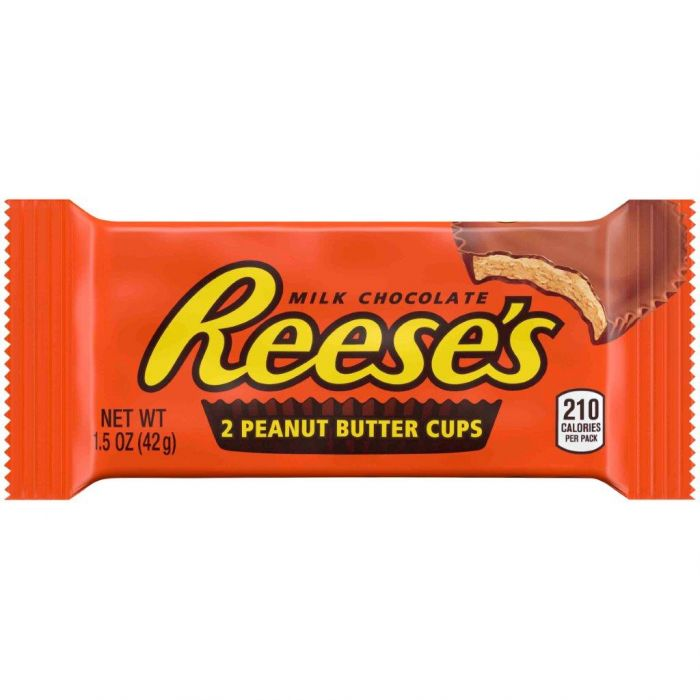reese: (2, 199, 694, 503)
